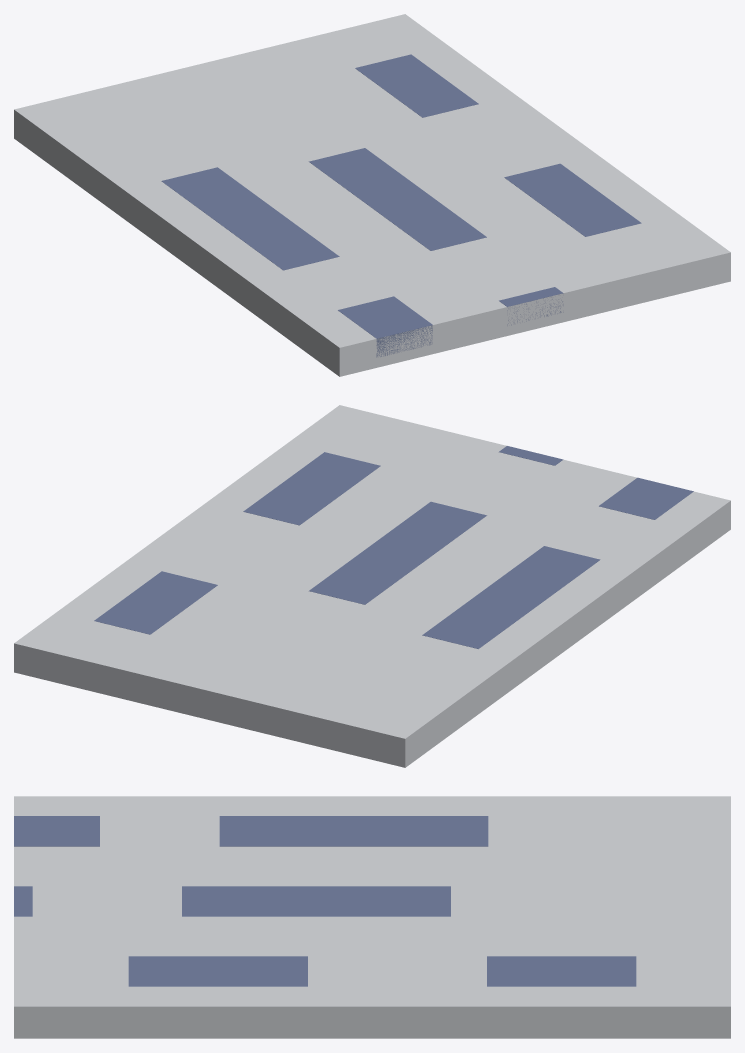
The model's file is measured-dvd-tracks.glb.
The picture shows the model from 3 angles, top to bottom: view 1: azimuth 30°, elevation 25°; view 2: azimuth 150°, elevation 25°; view 3: azimuth 270°, elevation 25°; orthographic projection. The views are drawn at different scales.
Parts seen in each view (by area): view 1: reflective layer, pits; view 2: reflective layer, pits; view 3: reflective layer, pits.
Boxes of the visible parts, x1,y1,x2,y2 form: reflective layer: [14, 14, 730, 376]; pits: [161, 54, 641, 357]; reflective layer: [14, 405, 730, 767]; pits: [94, 446, 693, 648]; reflective layer: [14, 796, 730, 1038]; pits: [14, 816, 636, 986].
Bounding box in the file's own units: 2.22 × 0.1582 × 3.2.
